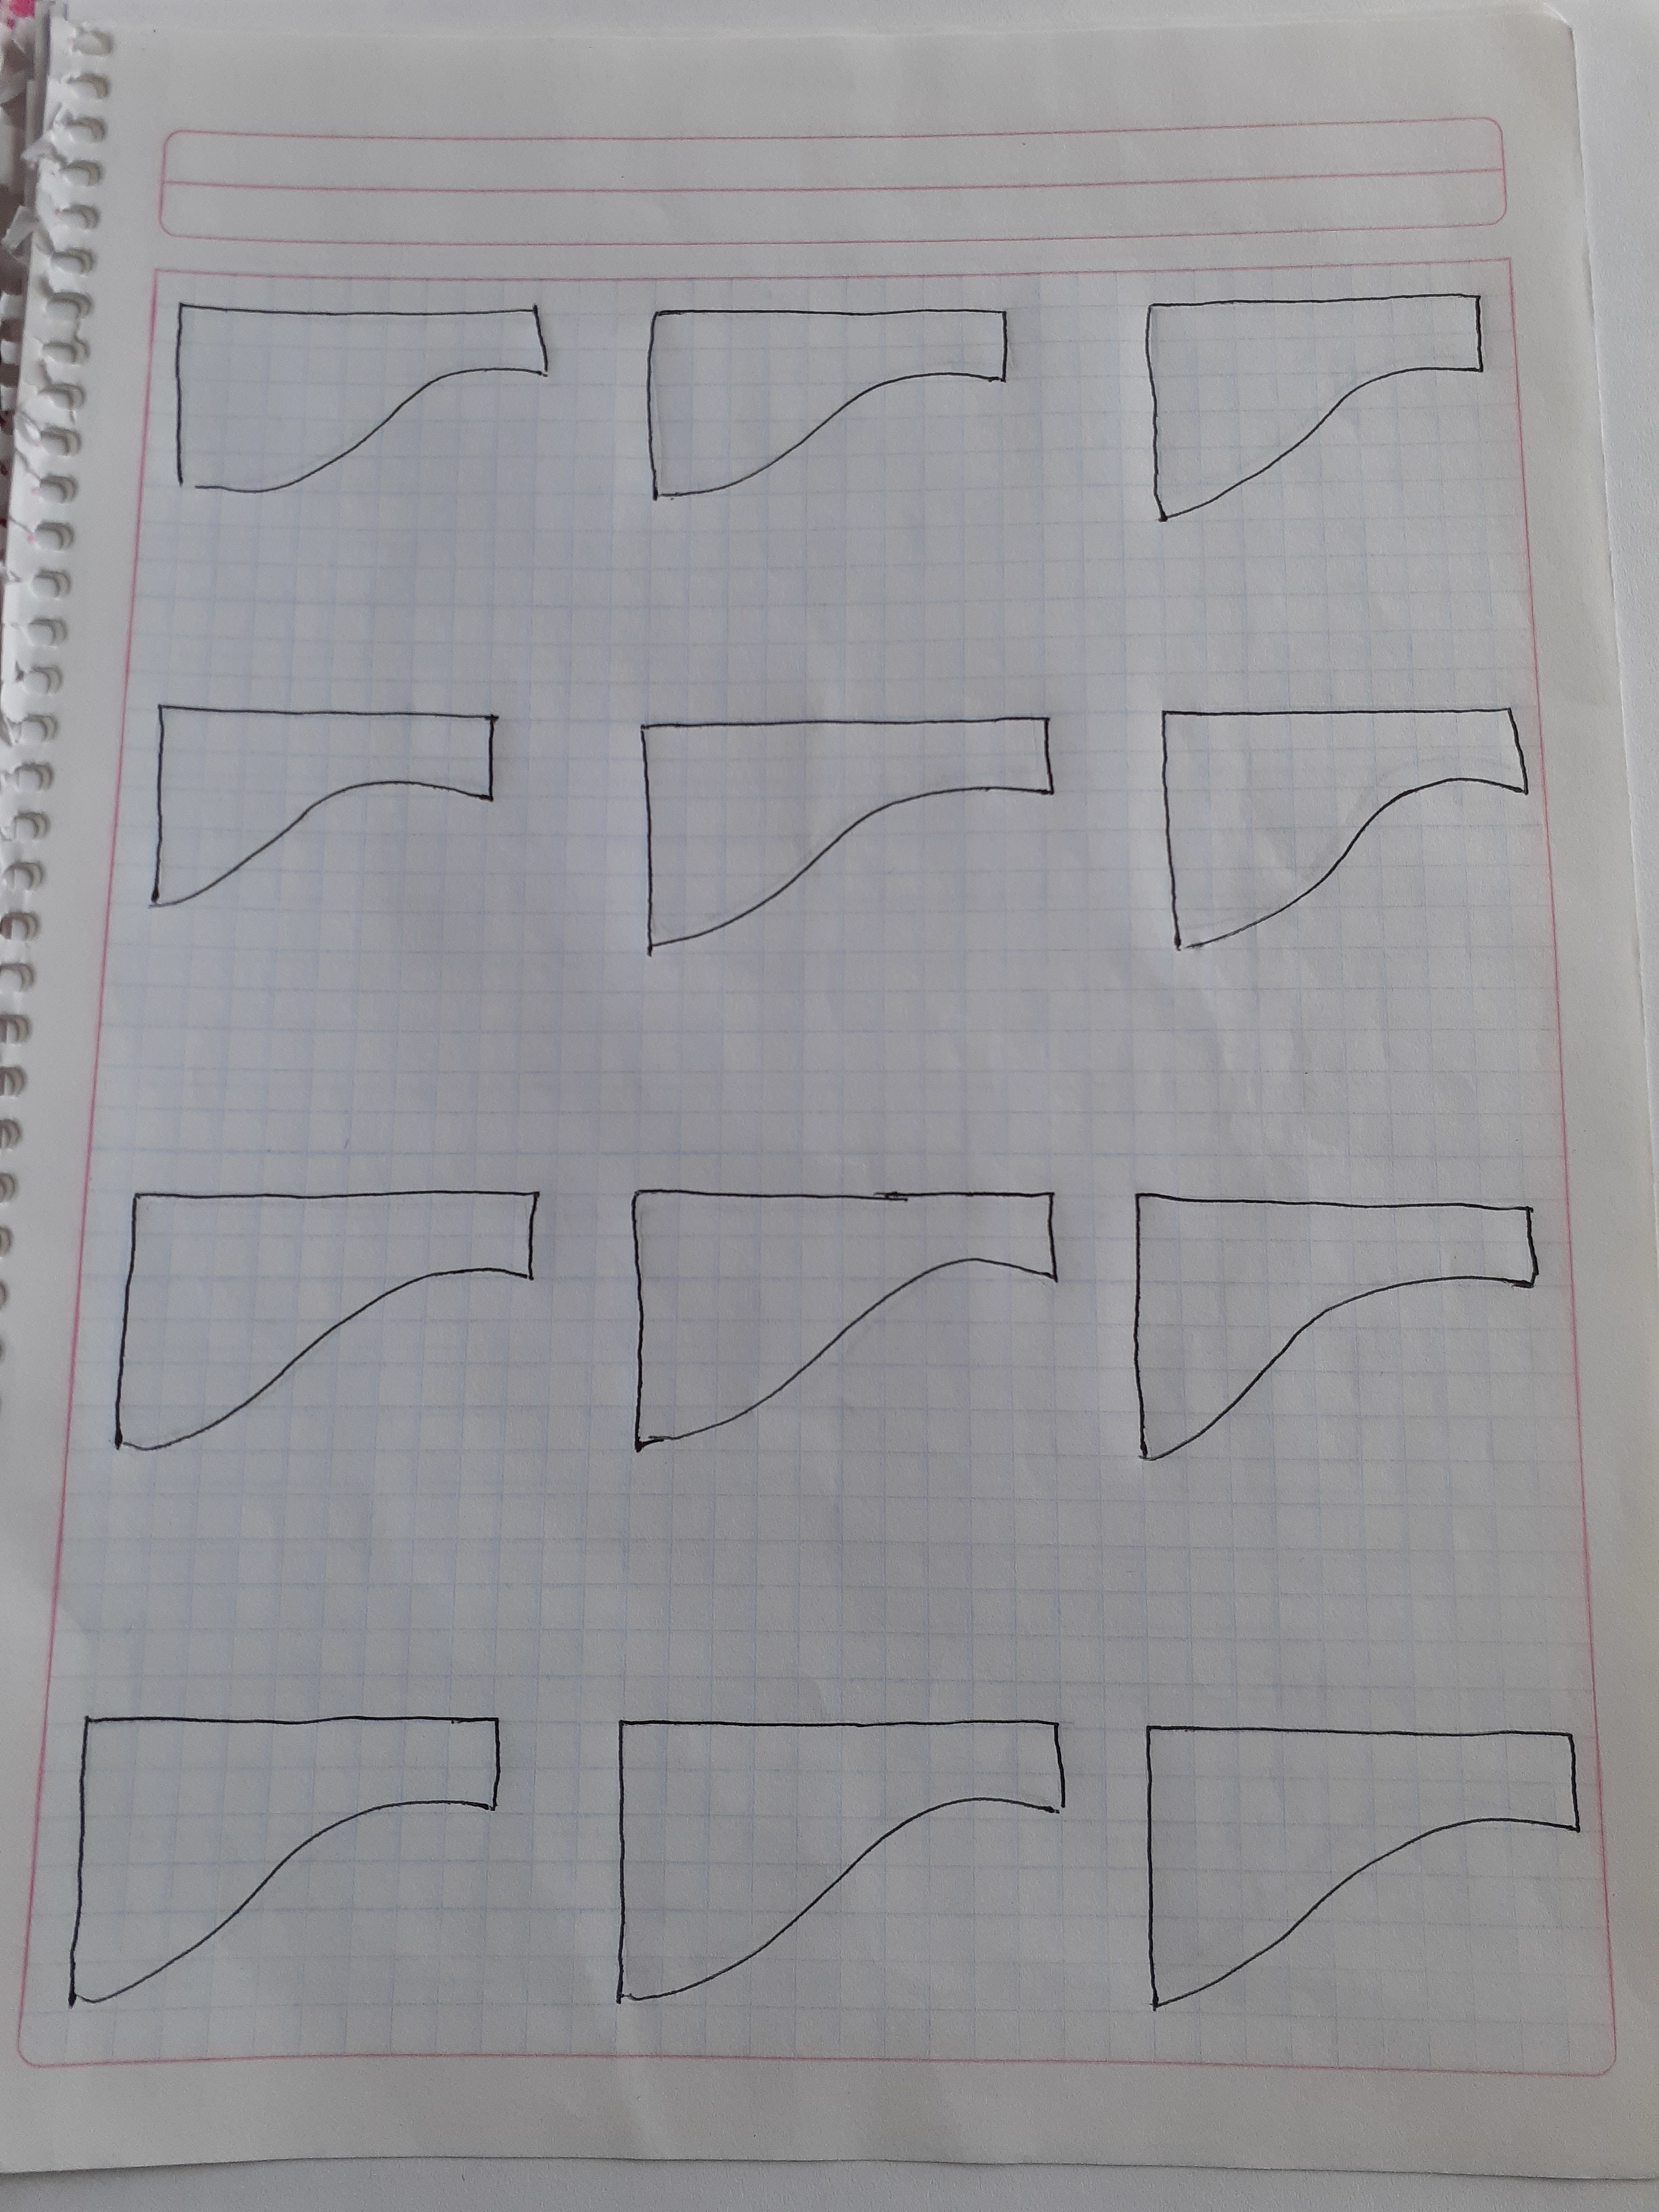print: (573, 1658, 1089, 2027), (1126, 1658, 1607, 2048), (38, 1669, 512, 2031), (617, 1137, 1079, 1475), (1108, 1150, 1567, 1489), (92, 1150, 566, 1472), (620, 679, 1086, 974), (1140, 679, 1577, 991), (110, 665, 519, 963), (164, 266, 584, 554), (1129, 256, 1499, 561), (631, 268, 1051, 519)
